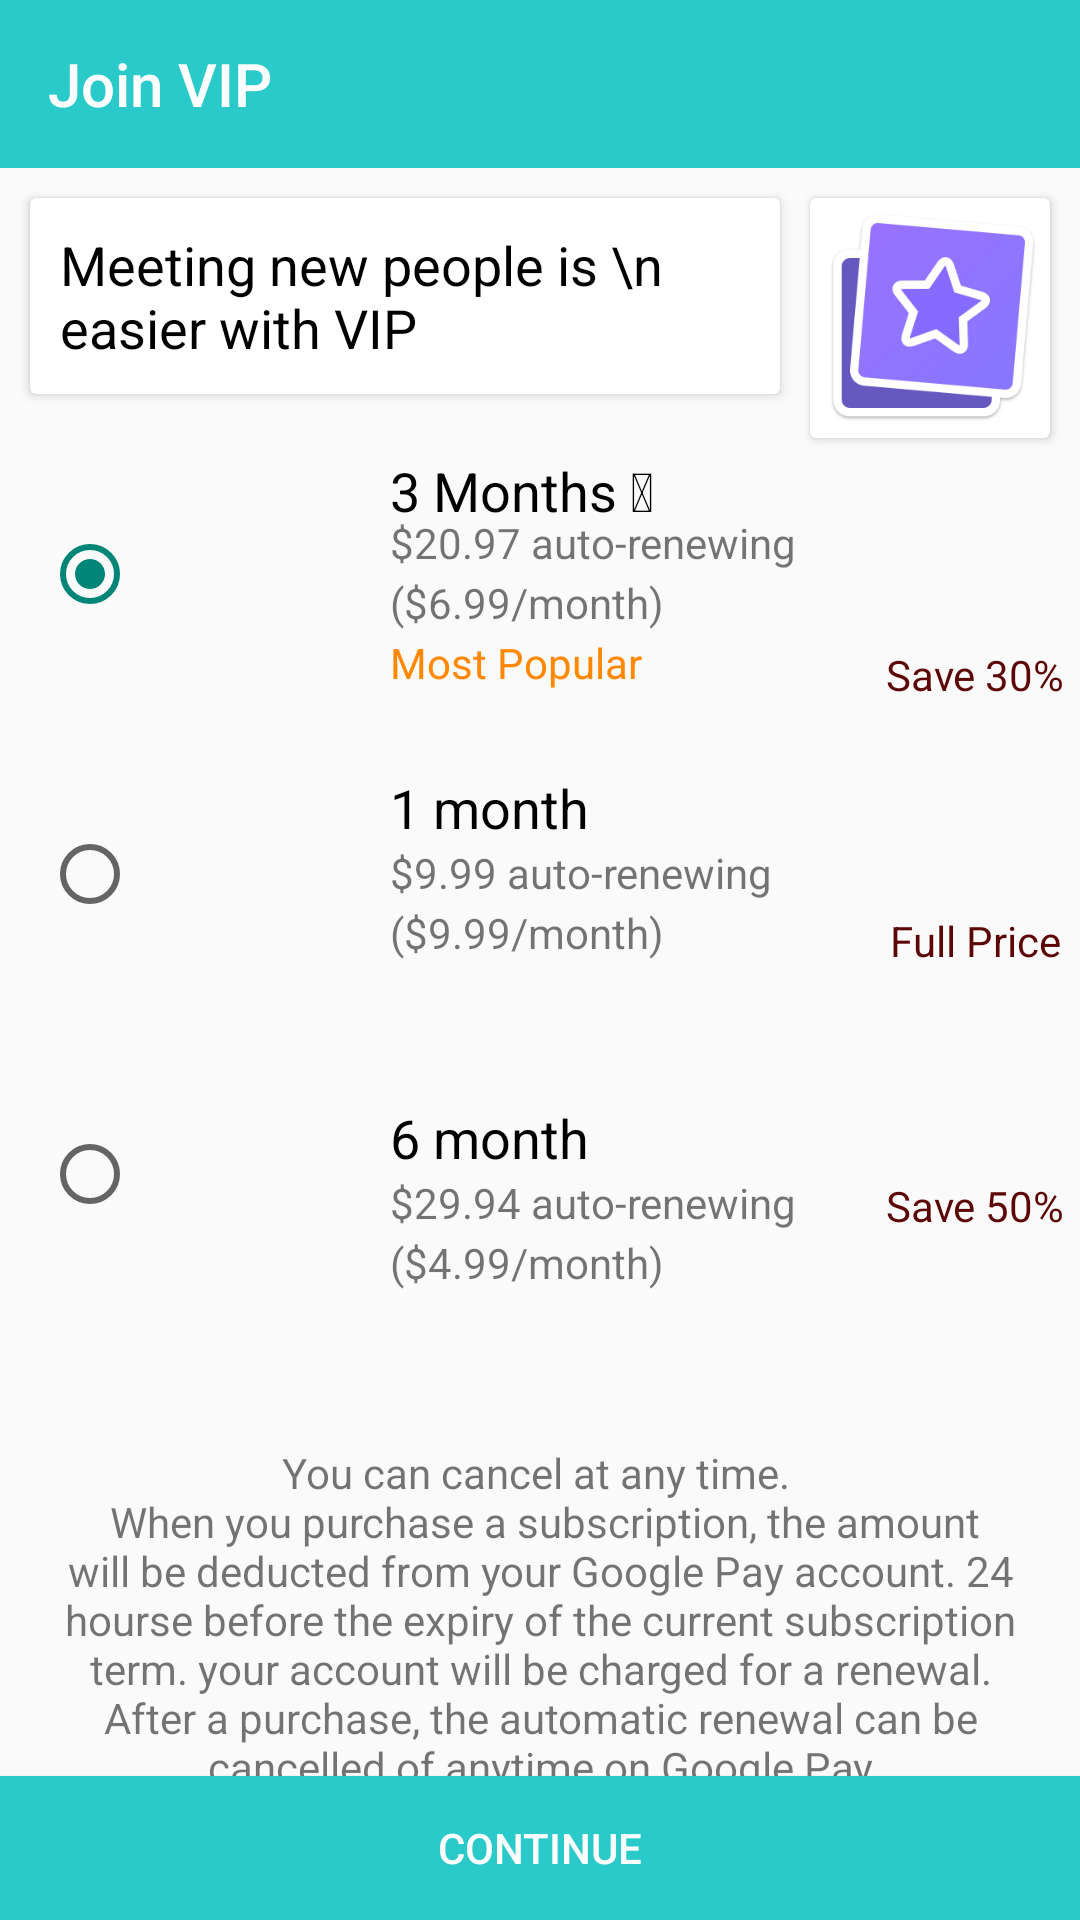

Icon click points for this 1080px×1920px phone screenshot, format (x,y):
vip join likes you: (929,320)
